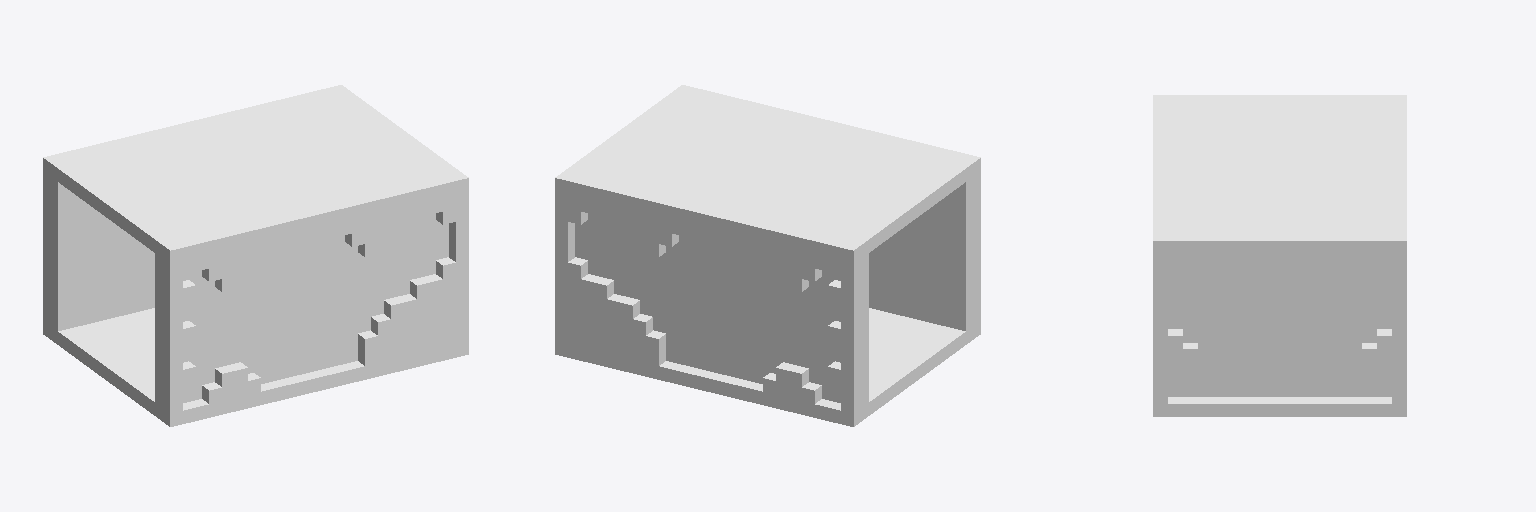
Rendered from platform-x-6.obj.
The picture shows the model from 3 angles: view 1: azimuth 30°, elevation 25°; view 2: azimuth 150°, elevation 25°; view 3: azimuth 270°, elevation 25°; orthographic projection.
Parts seen in each view (by area): view 1: platform-x-6; view 2: platform-x-6; view 3: platform-x-6.
Boxes of the visible parts, x1=… form: platform-x-6: x1=43, y1=85, x2=468, y2=426; platform-x-6: x1=555, y1=85, x2=980, y2=426; platform-x-6: x1=1153, y1=95, x2=1406, y2=416.
Bounding box in the file's own units: 23 × 13 × 17.